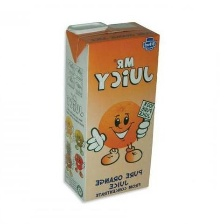carton: (55, 15, 163, 209)
